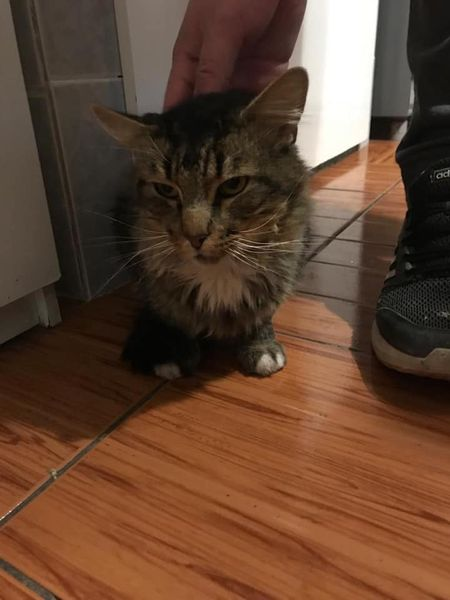cat: (102, 61, 325, 399)
